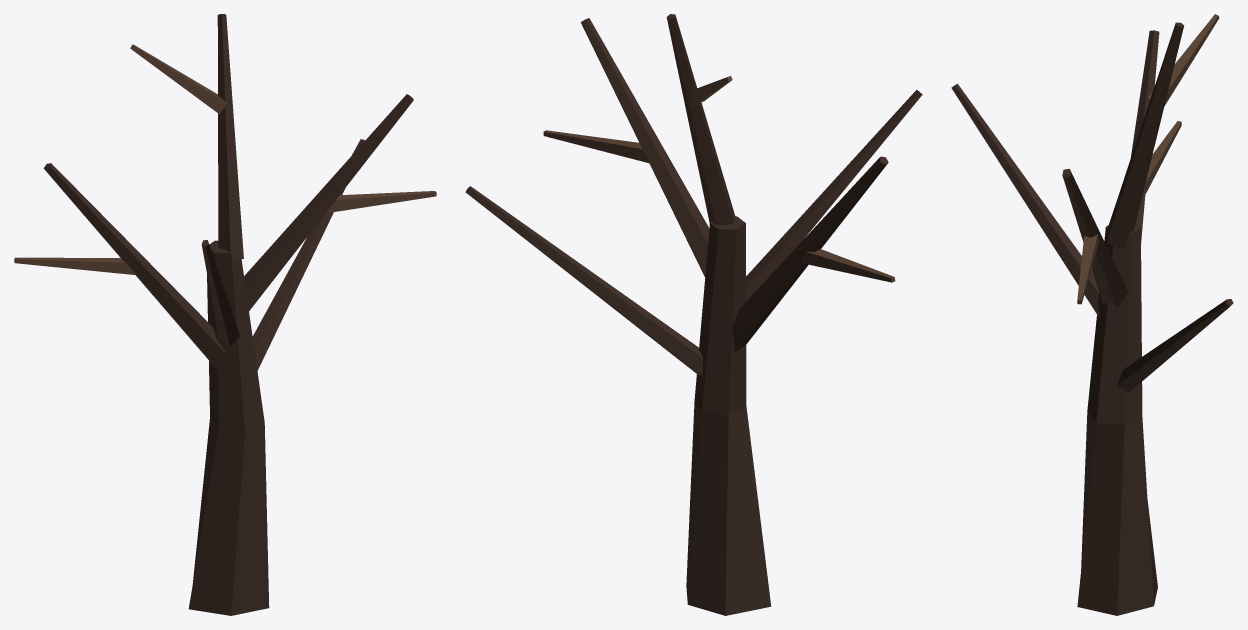
Rendered from deco_tree_b.glb.
3 renders of one model, left to right at view 1: azimuth 30°, elevation 25°; view 2: azimuth 150°, elevation 25°; view 3: azimuth 270°, elevation 25°, orthographic. The views are drawn at different scales.
Visible parts, largest first — view 1: deco_tree_b_mesh; view 2: deco_tree_b_mesh; view 3: deco_tree_b_mesh.
Boxes of the visible parts, bbox=[...] form: deco_tree_b_mesh: bbox=[14, 14, 436, 615]; deco_tree_b_mesh: bbox=[465, 14, 922, 615]; deco_tree_b_mesh: bbox=[951, 14, 1233, 615].
Bounding box in the file's own units: 0.2619 × 0.3717 × 0.1628.
